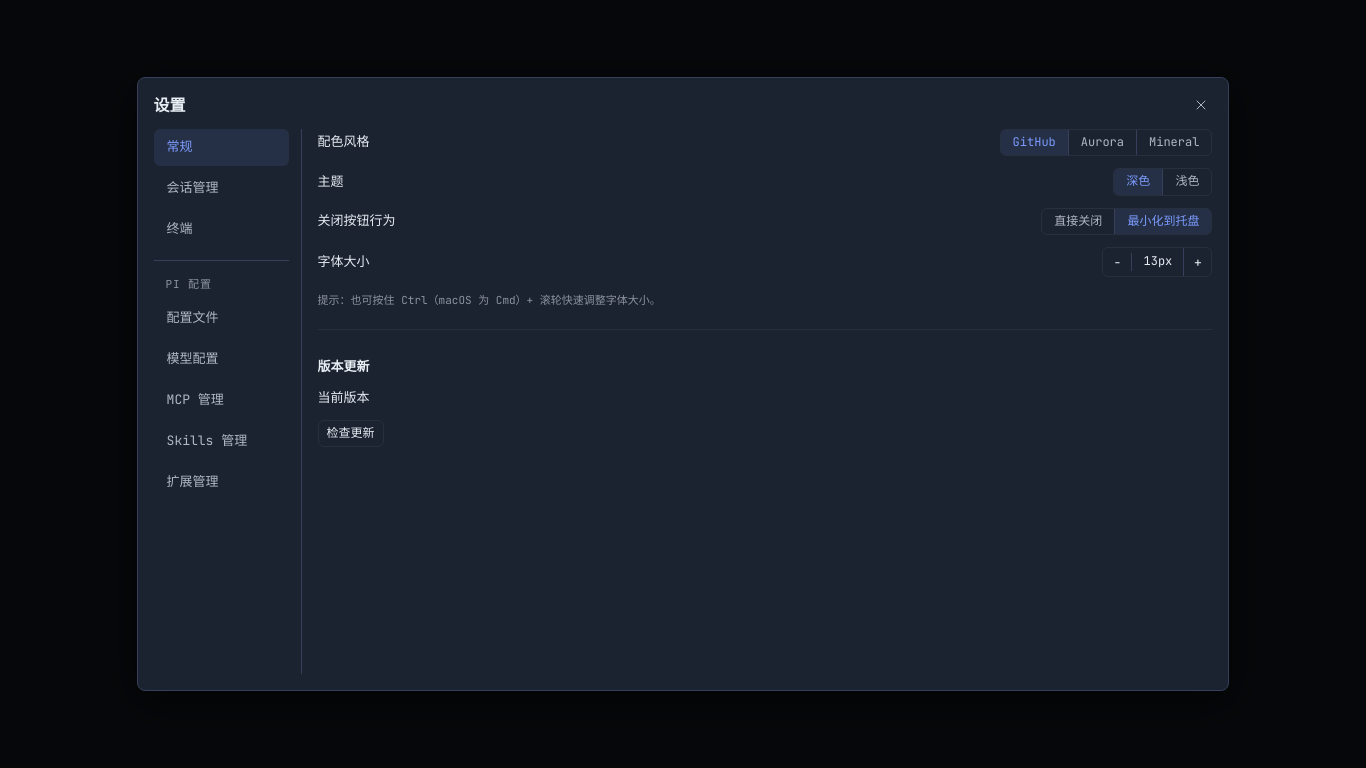
Test case: SettingsPanel 终端设置 › 终端 nav 项存在，点击后显示终端设置
What coordinates should you click on to do the following:
click the button "终端"
I would click on:
 (221, 229)
Its box is [154,211,289,248].
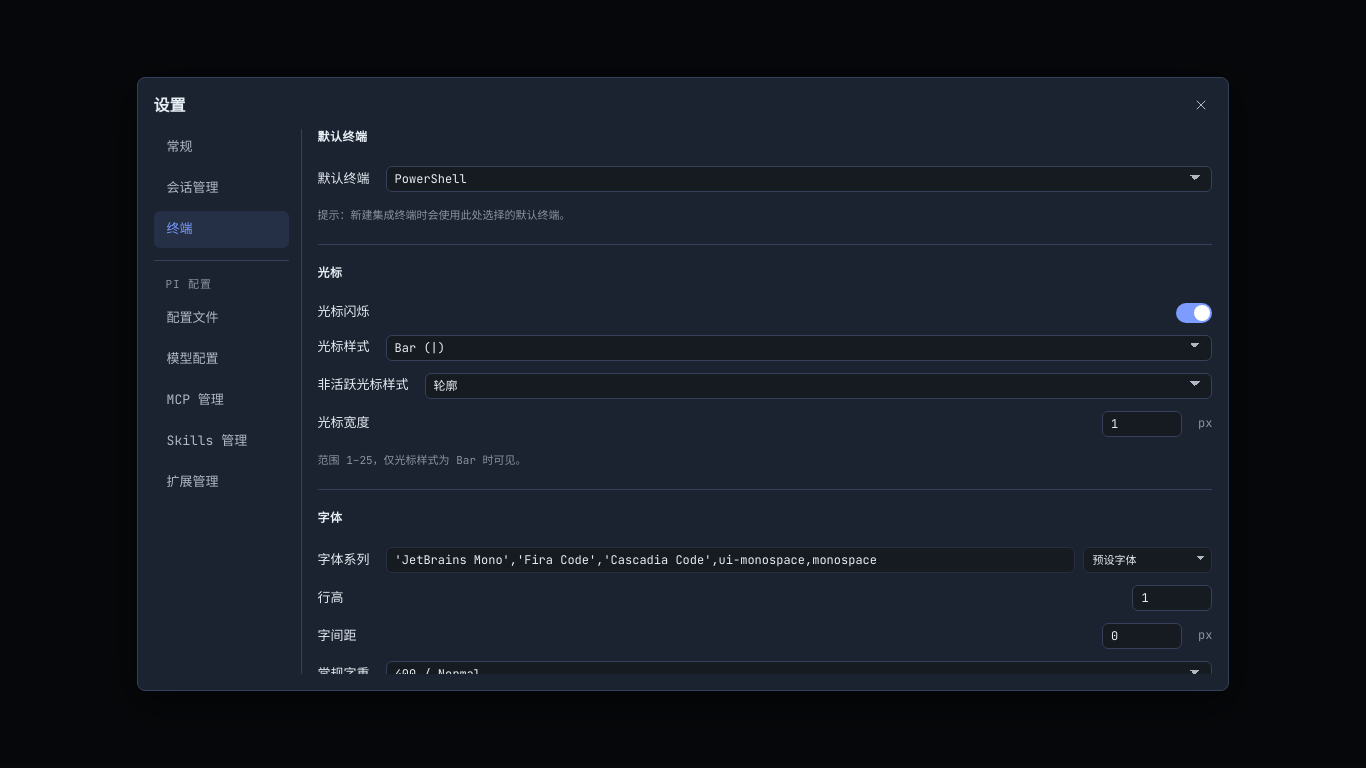
Expected: the heading "默认终端" is shown, [318,129,368,145]
Expected: the dropdown named "默认终端" shows "PowerShell", [386,166,1212,192]
